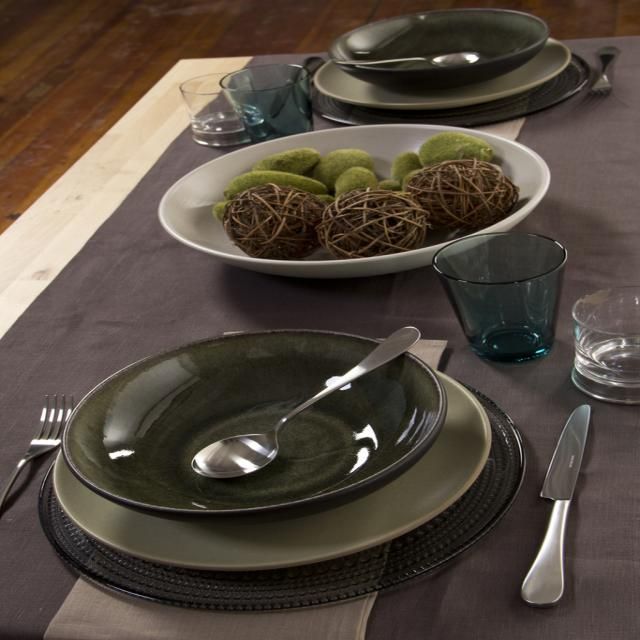non-organic waste: (44, 314, 464, 526), (142, 107, 560, 282)
